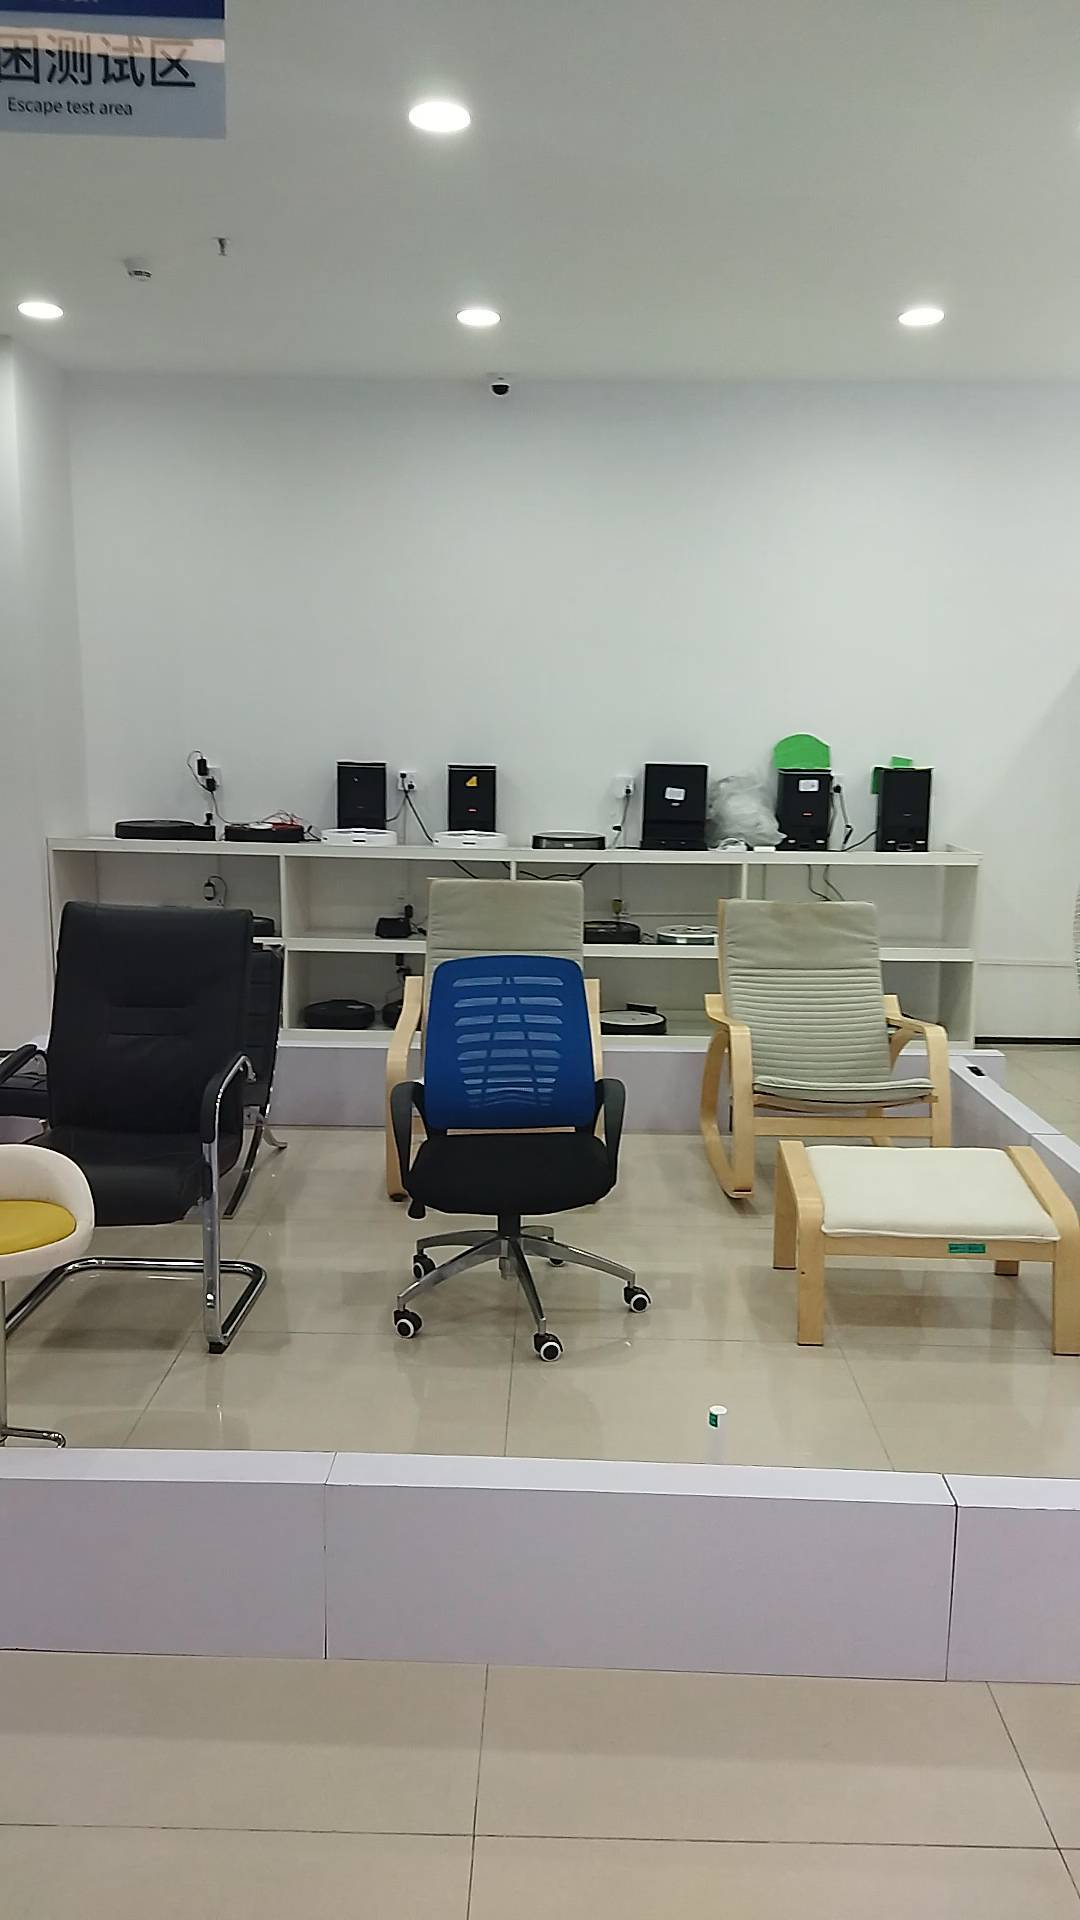dust collecting barrel: (641, 765, 711, 852), (873, 767, 936, 849), (775, 770, 836, 849), (332, 761, 393, 829), (443, 764, 498, 829)
recharge seat: (368, 918, 411, 938)
